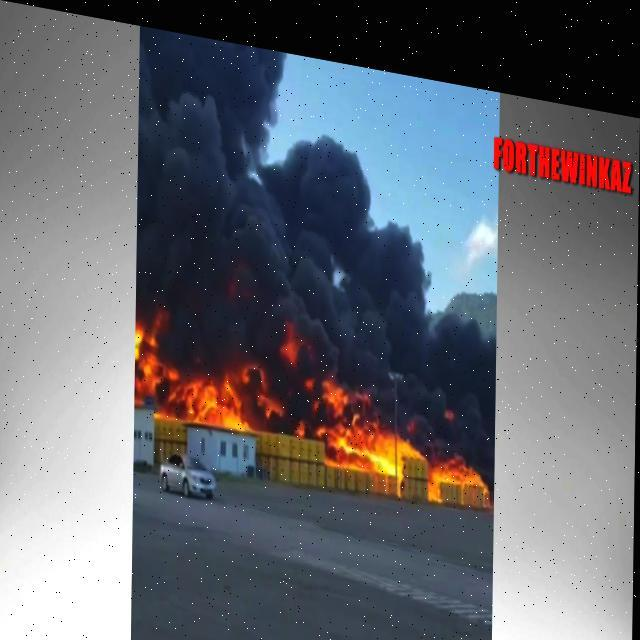Fire: (322, 397, 488, 471), (139, 328, 261, 426)
